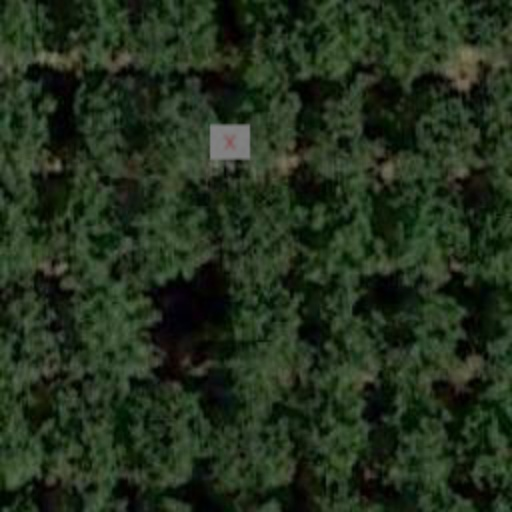rectangle: (210, 122, 250, 162)
